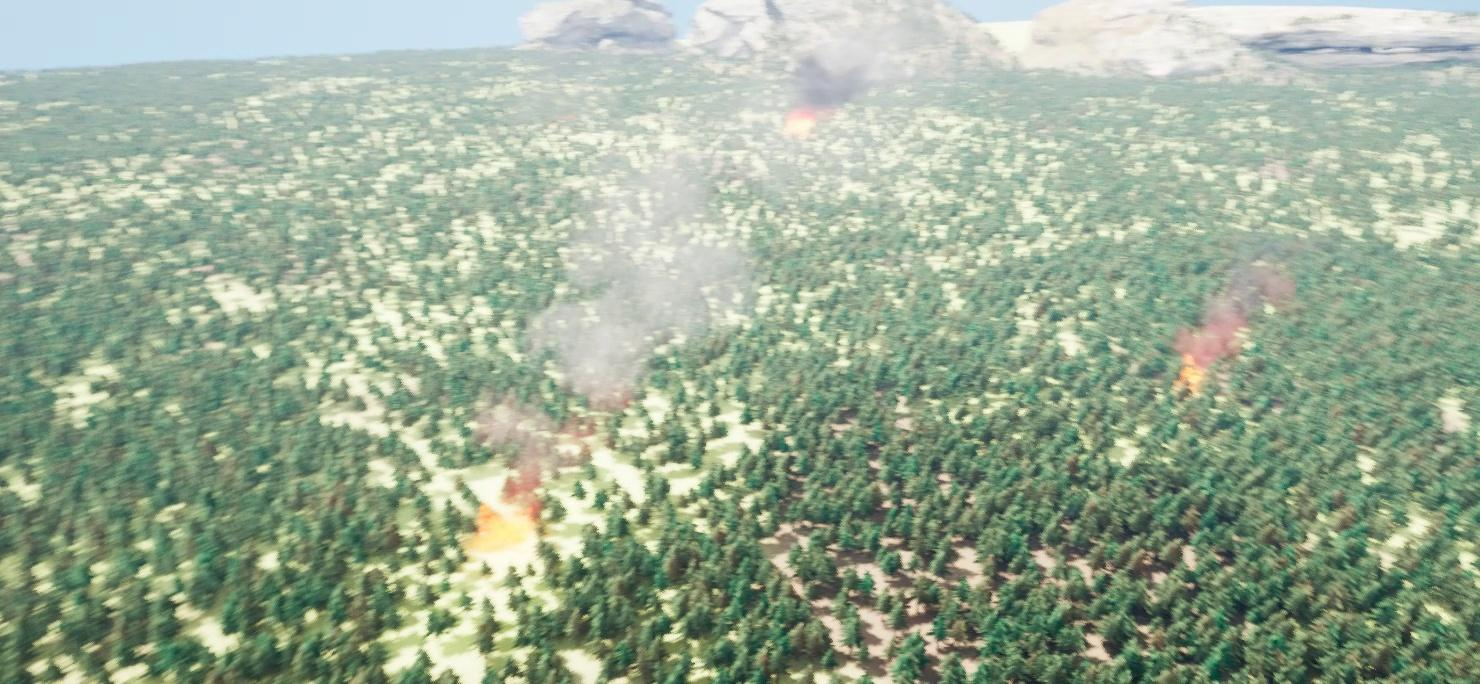fire: (464, 507, 546, 549), (780, 111, 820, 136), (1177, 354, 1203, 392)
smoke: (485, 136, 743, 493), (1174, 264, 1298, 356), (784, 33, 874, 108)
